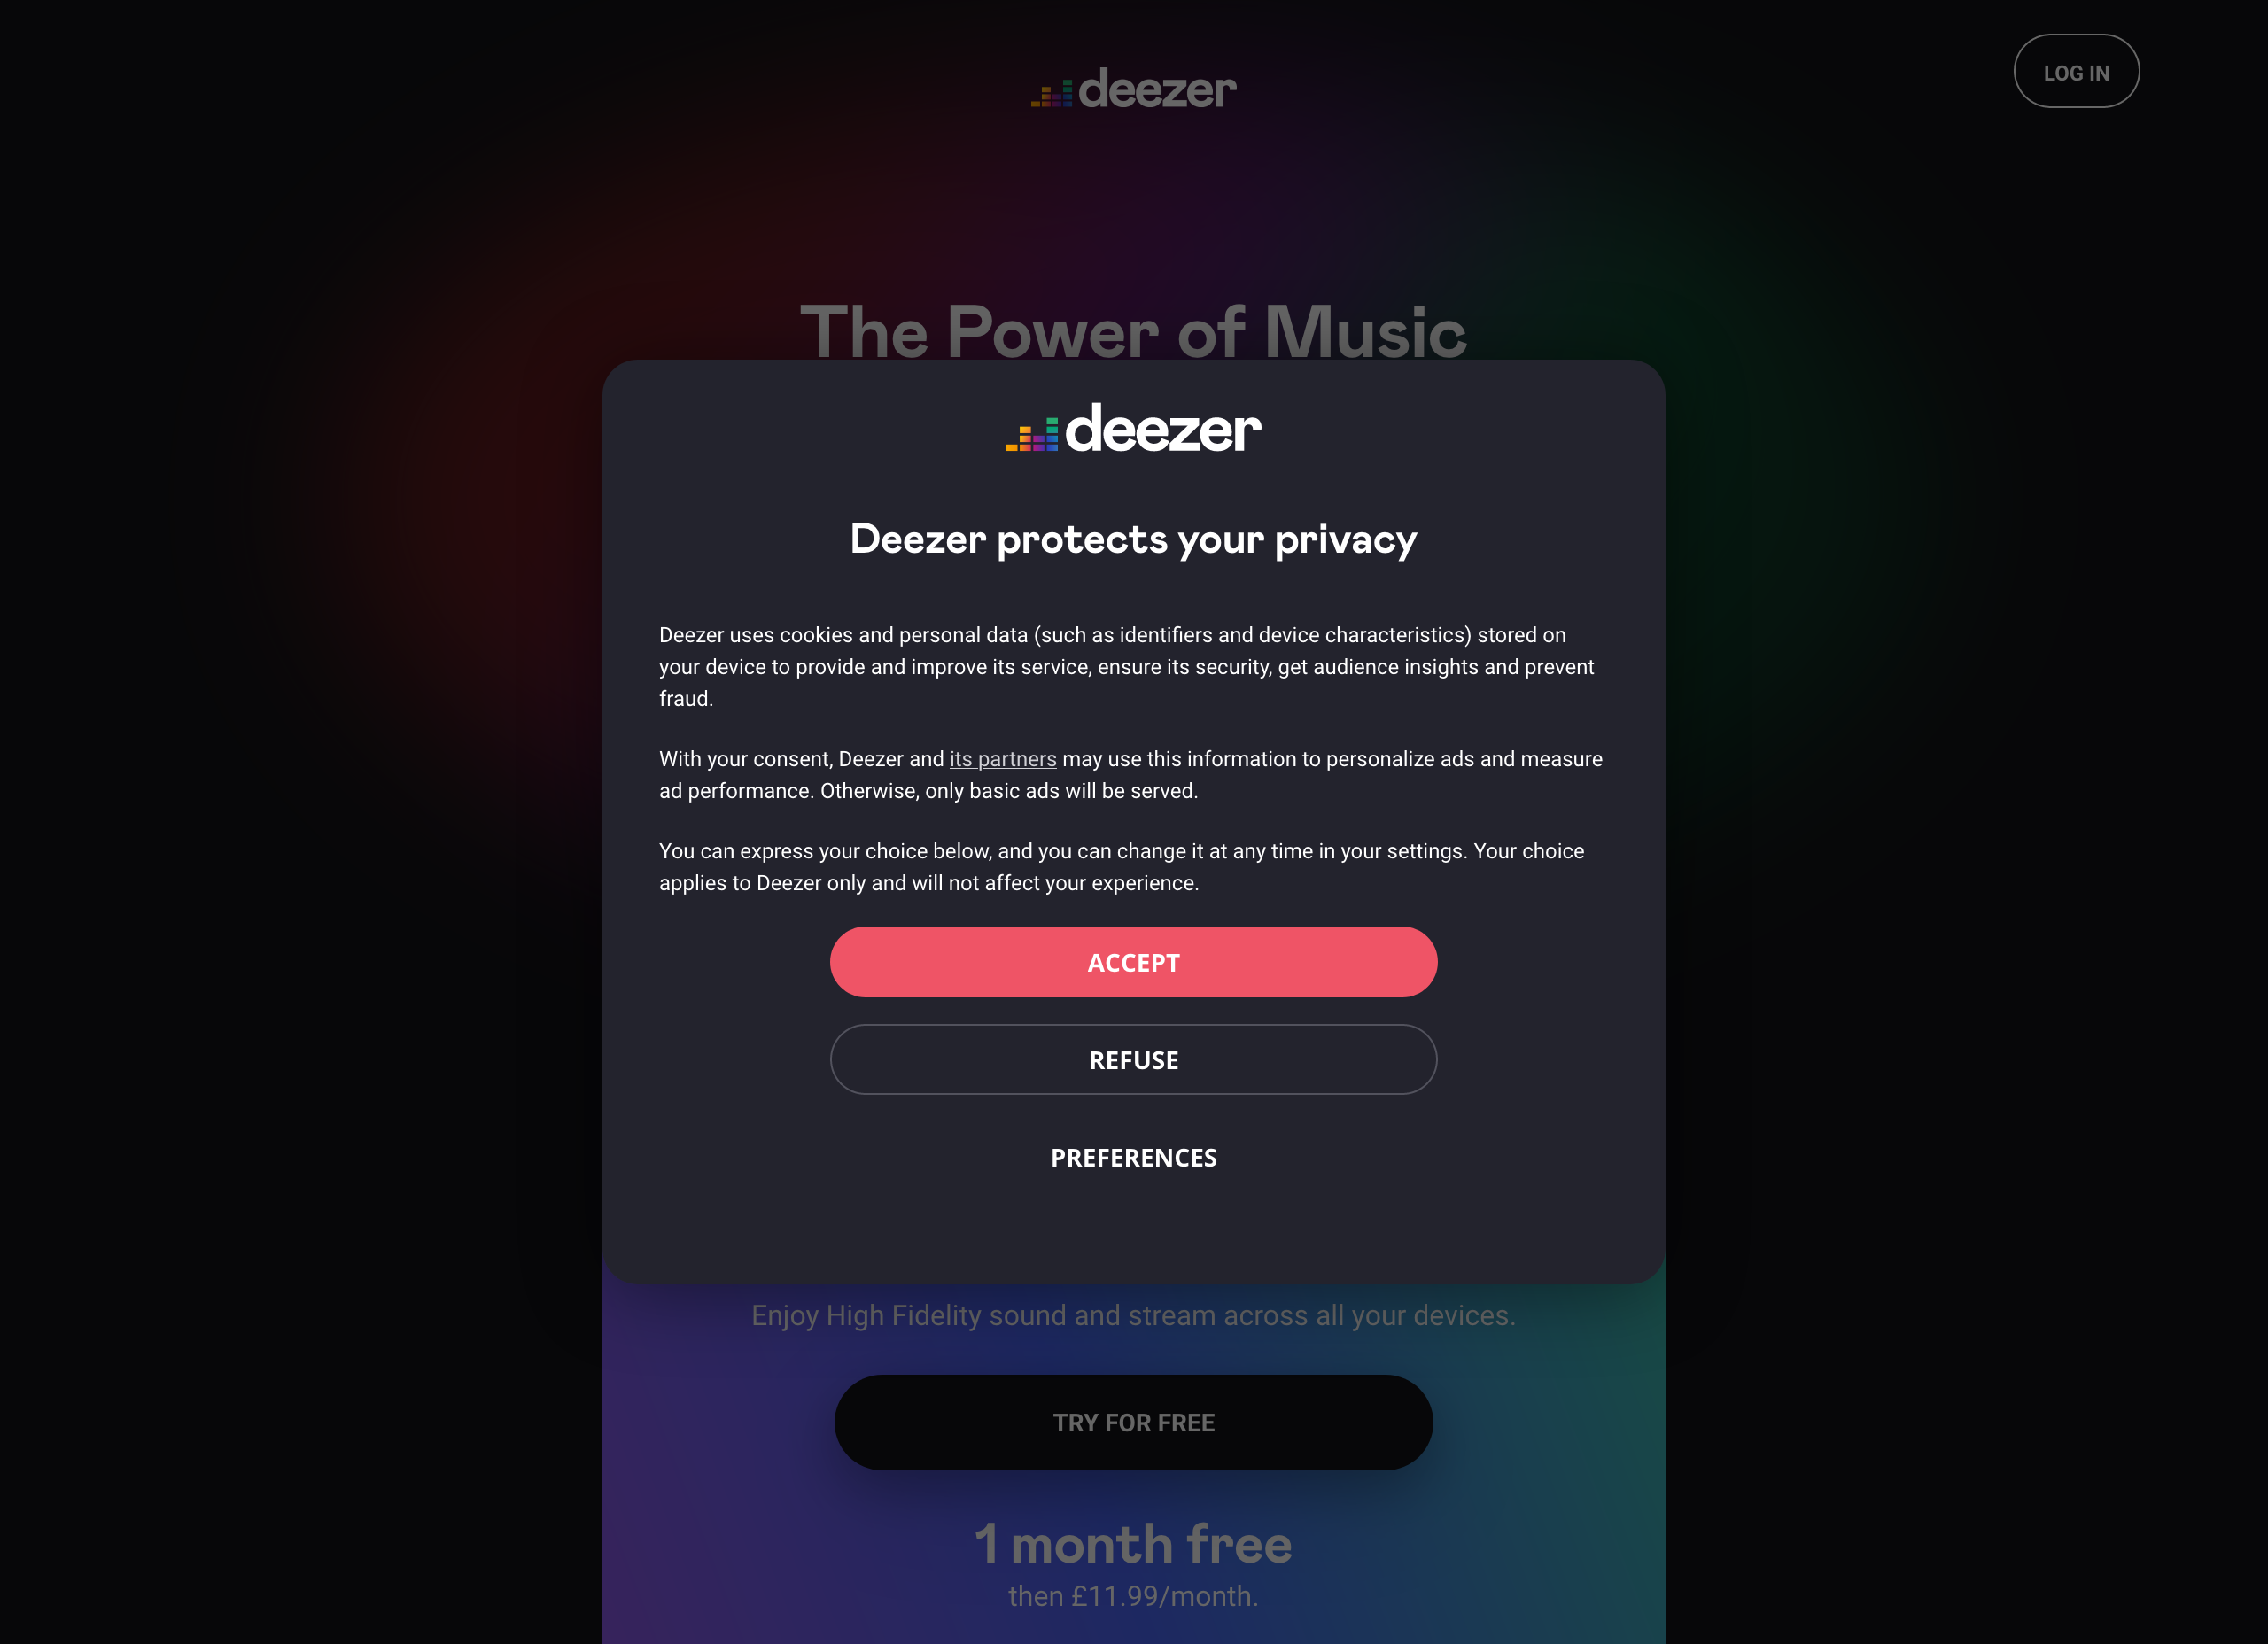Login: (2000, 23, 2152, 114)
